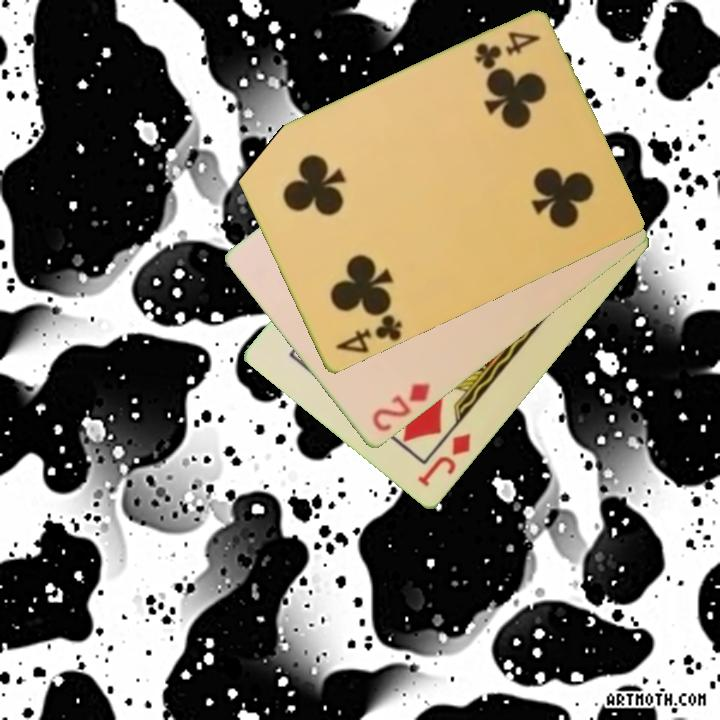2d: (368, 380, 433, 436)
4c: (331, 311, 405, 357), (470, 28, 543, 73)
Jd: (414, 430, 474, 491)
